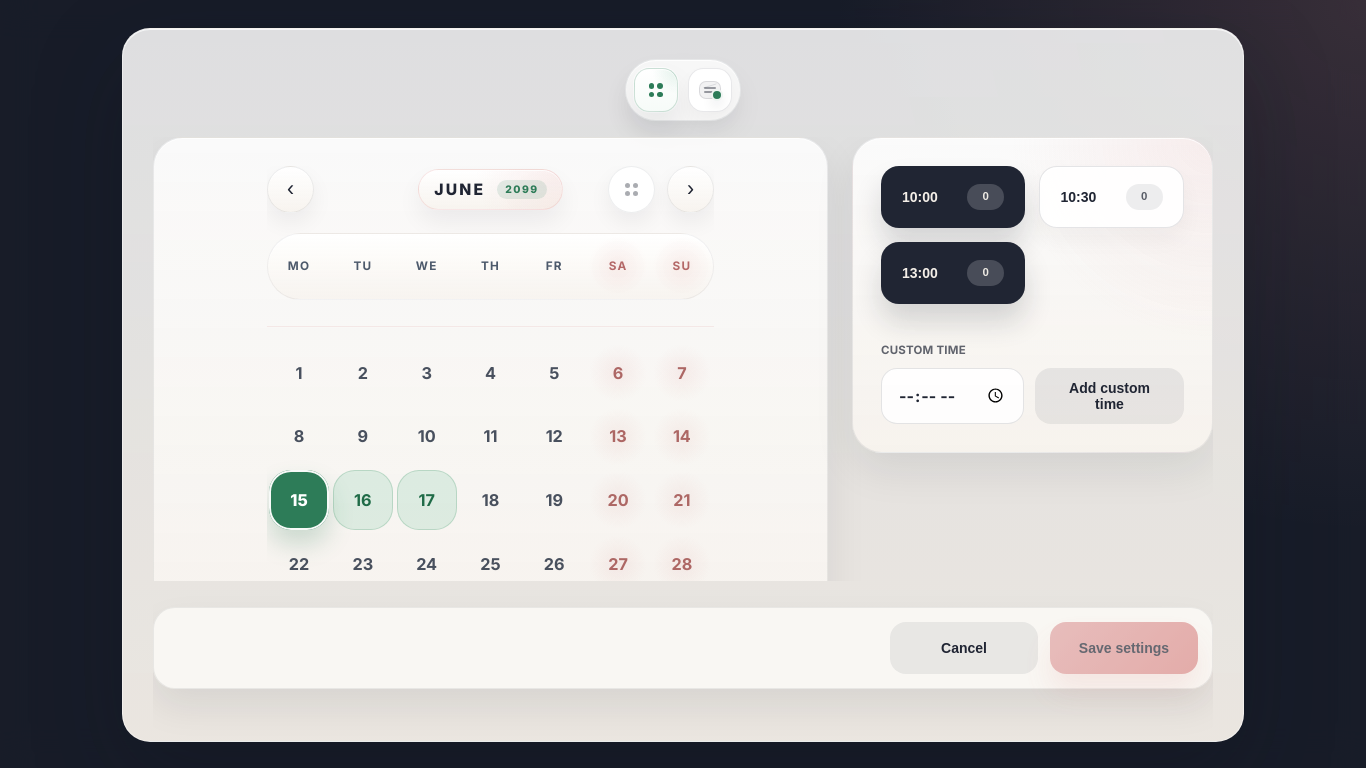
FreeTourScheduleEditorModal › enables save when a free tour email template changes
Expected: the button "Save settings" is disabled, [1050,622,1198,674]
Click the button named "open email templates view" at (710, 90), box [688,68,732,112]
Wait 360 ms
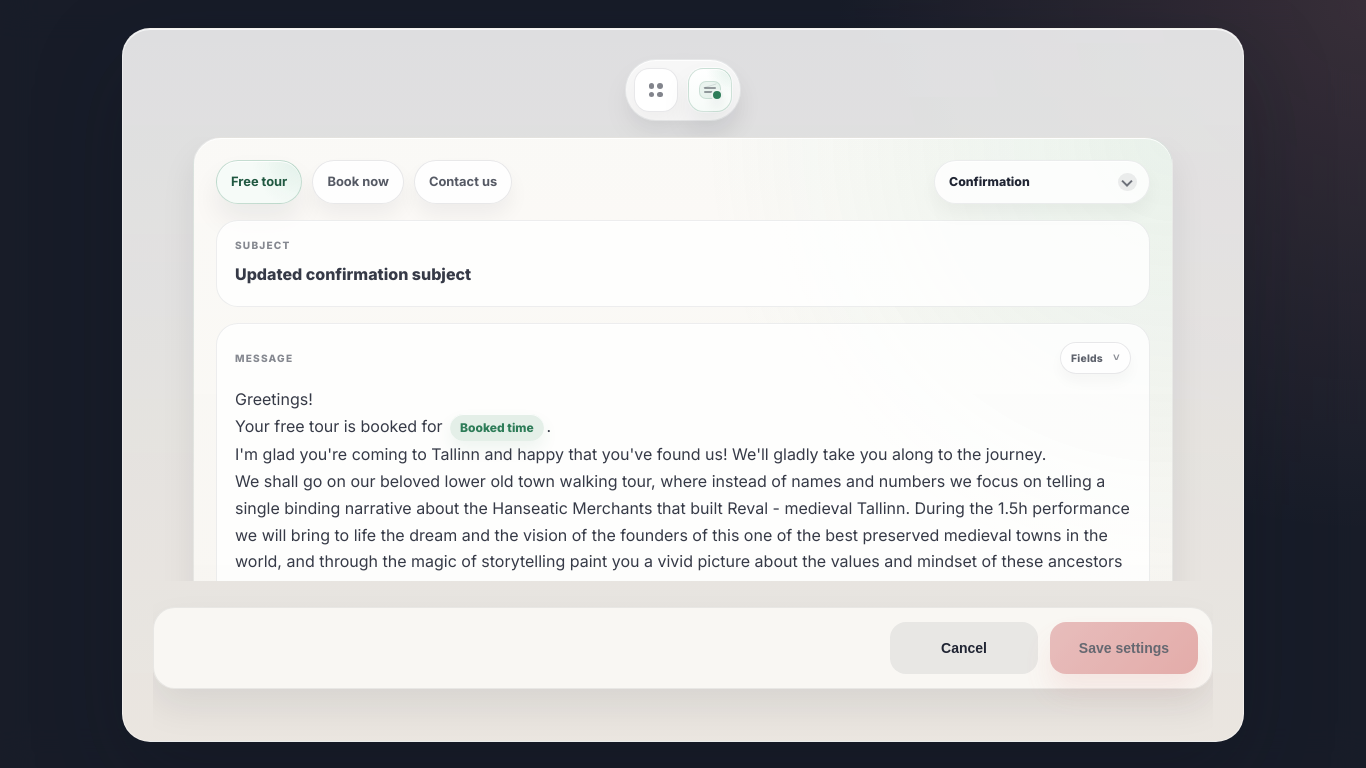
Clear the field named "Free tour confirmation subject" at (353, 274), box [235,264,471,284]
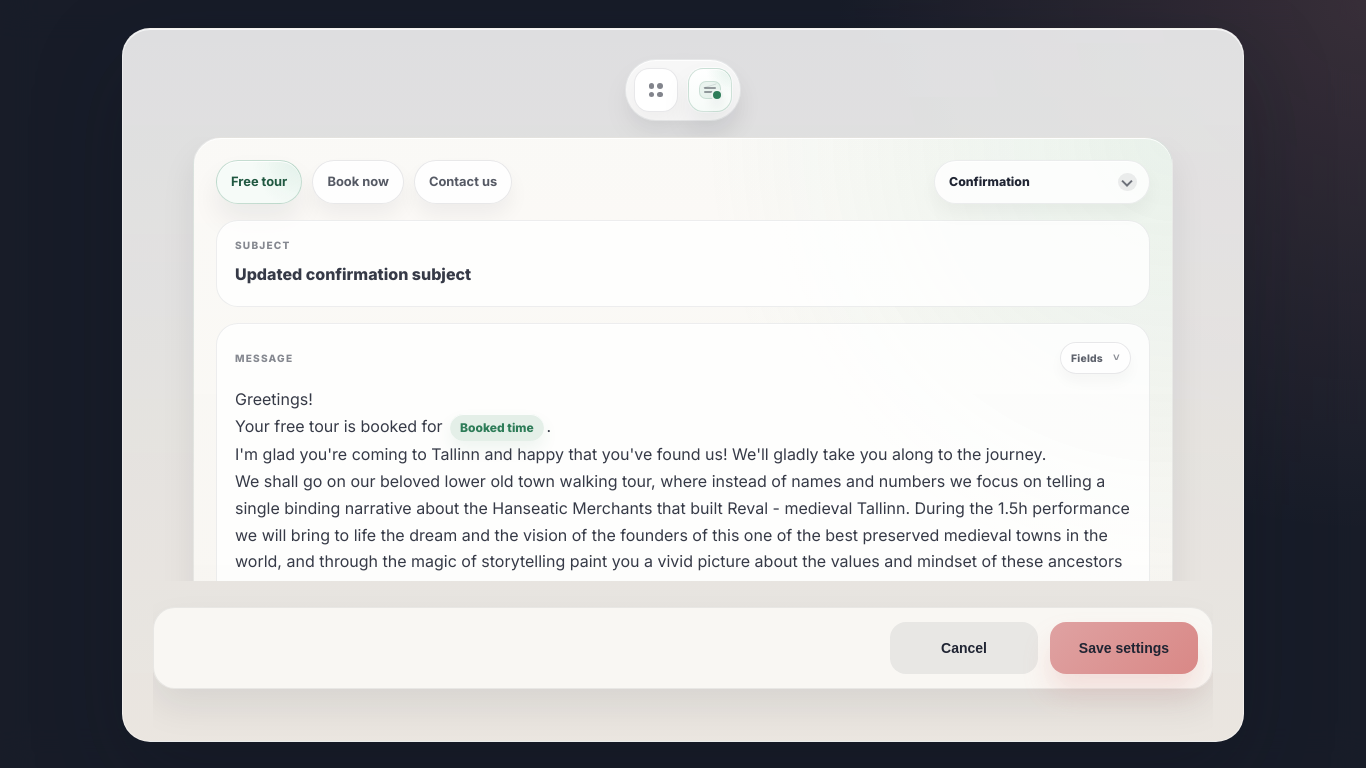
Now the button "Save settings" is enabled, box [1050,622,1198,674]
